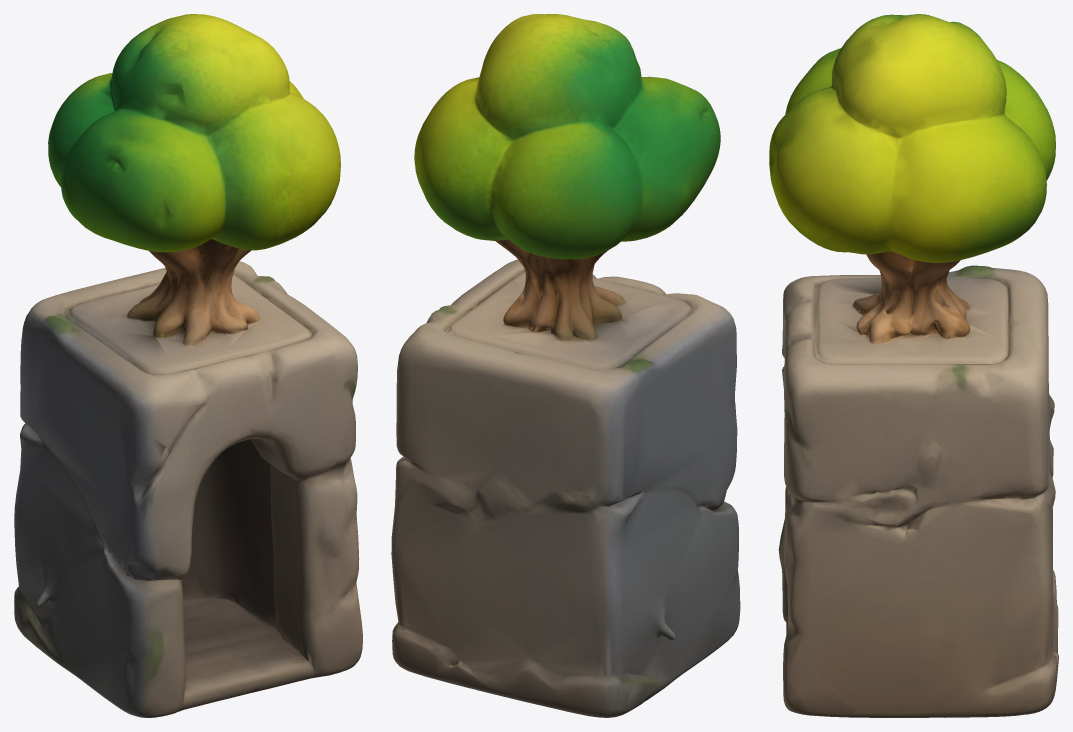
3 renders of one model, left to right at view 1: azimuth 30°, elevation 25°; view 2: azimuth 150°, elevation 25°; view 3: azimuth 270°, elevation 25°, orthographic. The views are drawn at different scales.
Parts seen in each view (by area): view 1: world; view 2: world; view 3: world.
Boxes of the visible parts, left/top/right/bottom form: world: left=14, top=14, right=362, bottom=717; world: left=391, top=14, right=740, bottom=717; world: left=769, top=14, right=1058, bottom=717.
Bounding box in the file's own units: 0.4317 × 1 × 0.4058.
1 material, 1 textured.
